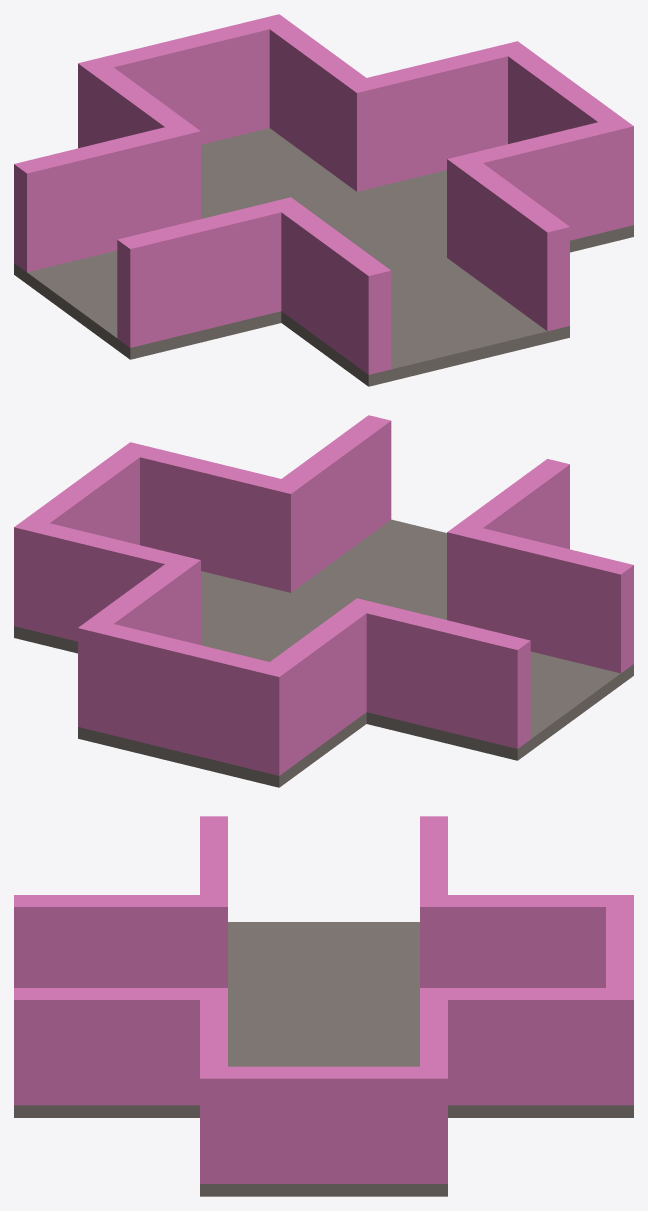
The model's file is X_wayCap2.fbx.
3 renders of one model, top to bottom at view 1: azimuth 30°, elevation 25°; view 2: azimuth 150°, elevation 25°; view 3: azimuth 270°, elevation 25°, orthographic. The views are drawn at different scales.
Parts seen in each view (by area): view 1: X_wayCap2; view 2: X_wayCap2; view 3: X_wayCap2.
Part boxes in pixels (x1,y1,x2,y2): X_wayCap2: (14,14,633,386); X_wayCap2: (14,415,633,787); X_wayCap2: (14,816,633,1196).
Bounding box in the file's own units: 2000 × 420 × 2000.
